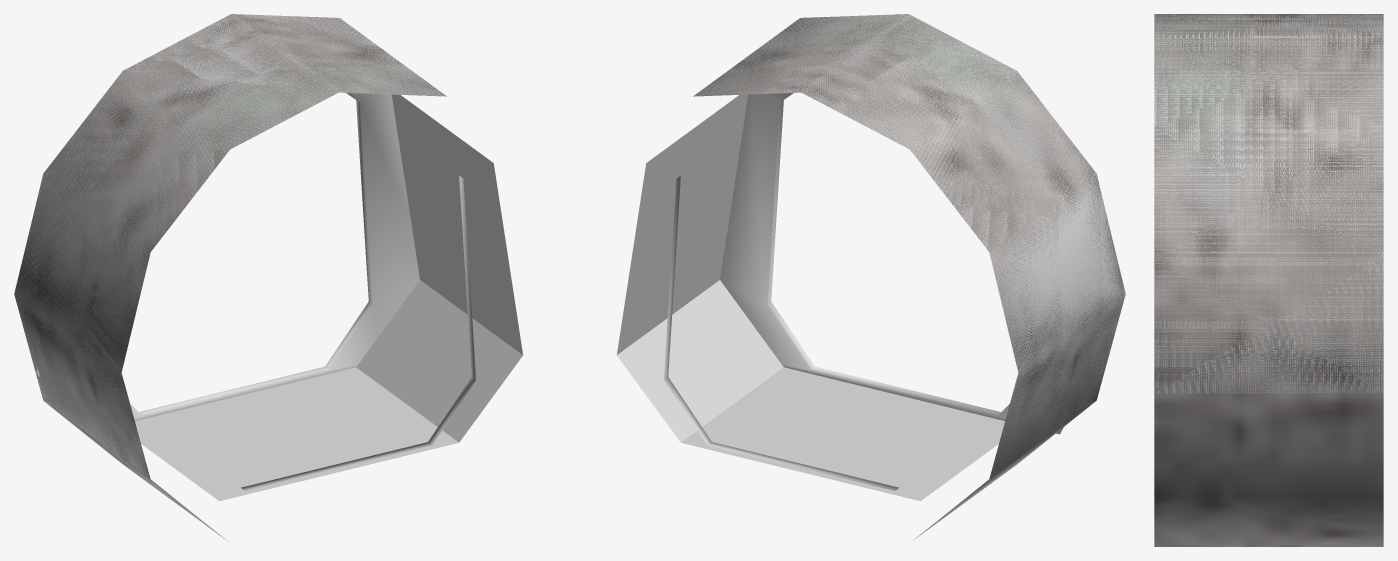
3 renders of one model, left to right at view 1: azimuth 30°, elevation 25°; view 2: azimuth 150°, elevation 25°; view 3: azimuth 270°, elevation 25°, orthographic. The views are drawn at different scales.
Size of the model in its own units: 3.5 by 3.5 by 1.5.
Materials: 2 (1 with a texture image).
